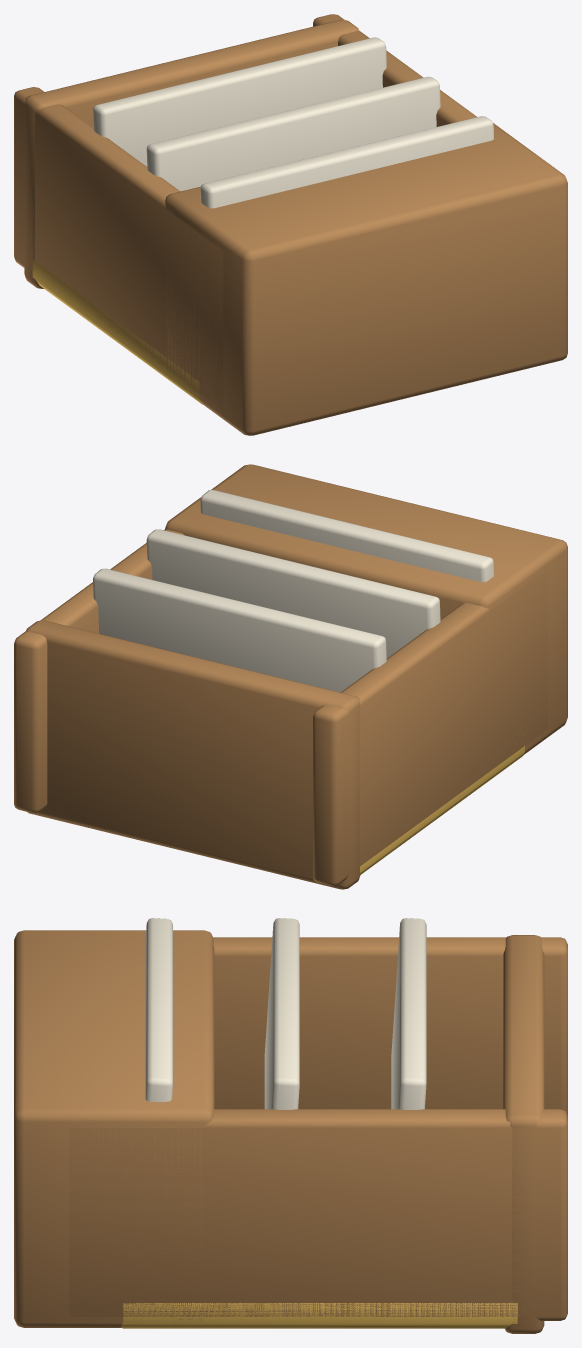
The model's file is display_eggs.glb.
The picture shows the model from 3 angles, top to bottom: view 1: azimuth 30°, elevation 25°; view 2: azimuth 150°, elevation 25°; view 3: azimuth 270°, elevation 25°; orthographic projection. The views are drawn at different scales.
Visible parts, largest first — view 1: Stand, SidePost, EggTray.002, EggTray.001, Canopy, EggTray, Backboard, SidePost.001; view 2: Canopy, SidePost, Stand, EggTray.002, EggTray.001, SidePost.001, EggTray, Backboard; view 3: SidePost.001, Stand, SidePost, Canopy, Backboard, EggTray.002, EggTray.001, EggTray.
Part boxes in pixels (left/top/right/bottom): Stand: left=165, top=123, right=567, bottom=435; SidePost: left=14, top=87, right=223, bottom=410; EggTray.002: left=93, top=37, right=386, bottom=166; EggTray.001: left=146, top=76, right=440, bottom=191; Canopy: left=24, top=20, right=359, bottom=288; EggTray: left=200, top=116, right=493, bottom=208; Backboard: left=32, top=260, right=202, bottom=404; SidePost.001: left=313, top=14, right=476, bottom=126; Canopy: left=25, top=620, right=360, bottom=889; SidePost: left=313, top=569, right=548, bottom=885; Stand: left=165, top=464, right=567, bottom=754; EggTray.002: left=93, top=568, right=386, bottom=692; EggTray.001: left=146, top=529, right=440, bottom=658; SidePost.001: left=14, top=529, right=183, bottom=813; EggTray: left=200, top=490, right=494, bottom=582; Backboard: left=360, top=740, right=524, bottom=874; SidePost.001: left=69, top=1109, right=567, bottom=1320; Stand: left=14, top=930, right=214, bottom=1327; SidePost: left=213, top=937, right=567, bottom=1115; Canopy: left=503, top=935, right=544, bottom=1333; Backboard: left=121, top=1303, right=517, bottom=1328; EggTray.002: left=391, top=918, right=426, bottom=1109; EggTray.001: left=264, top=918, right=299, bottom=1109; EggTray: left=145, top=918, right=172, bottom=1101.
Bounding box in the file's own units: 1.5 × 0.921 × 1.88.
